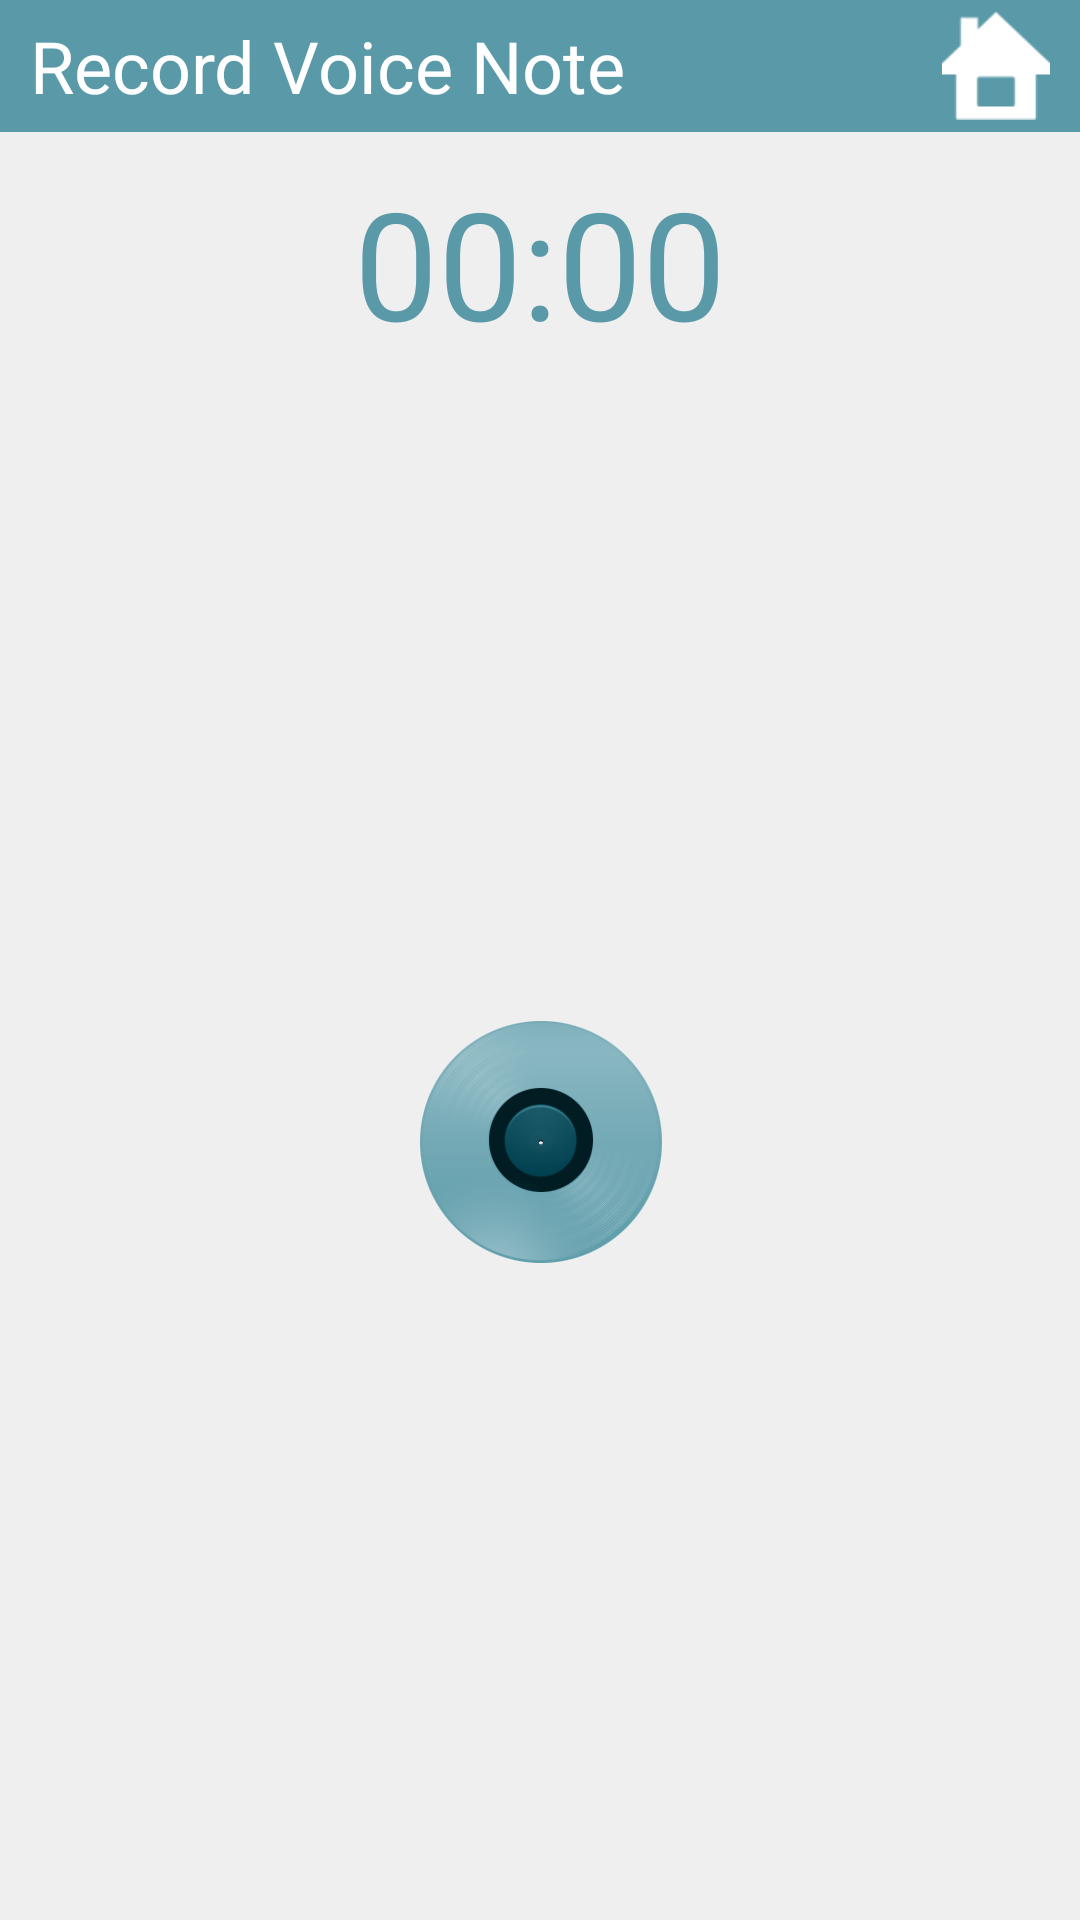

Screen size 1080 x 1920. Icon name, then its box in pixels as (x1, y1, x2, y2):
home: (942, 12, 1050, 120)
record: (420, 1021, 662, 1263)
